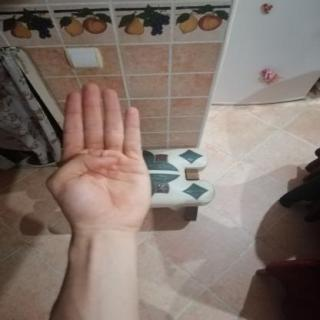KAAF: (34, 74, 164, 244)
